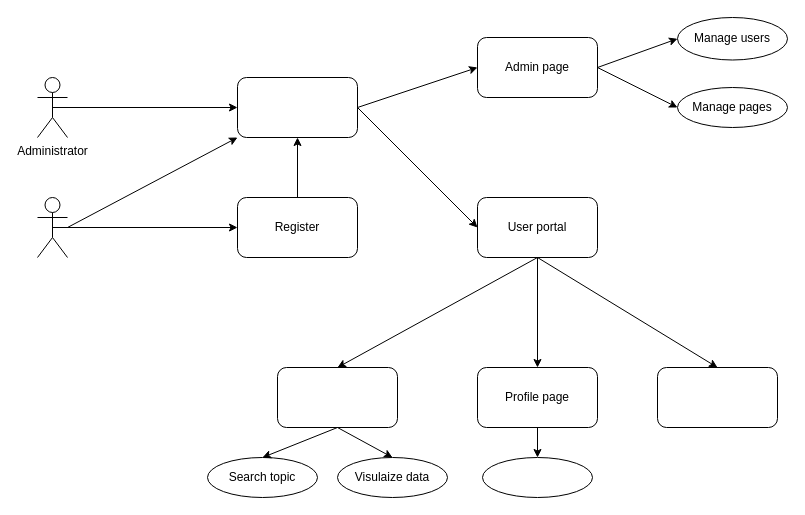
This 805x515 diagram has some shape labels left out. The centre of each missing label's shape, as x and y in pixels:
Add data: (x=537, y=477)
Browse page: (x=337, y=397)
Login: (x=297, y=107)
Suggestions page: (x=717, y=397)
User: (x=52, y=227)
